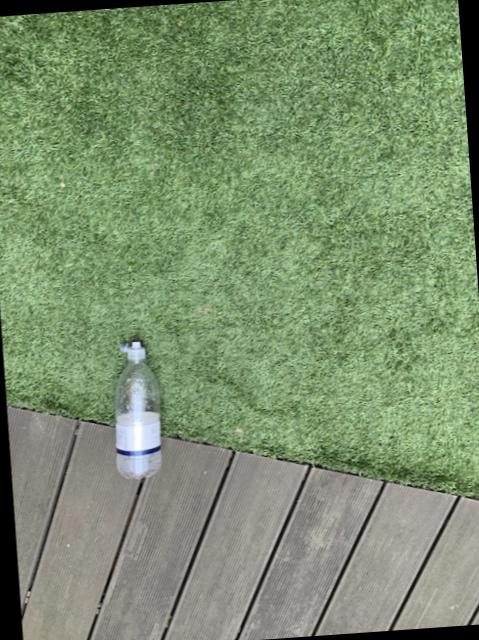plastic: (115, 343, 161, 480)
